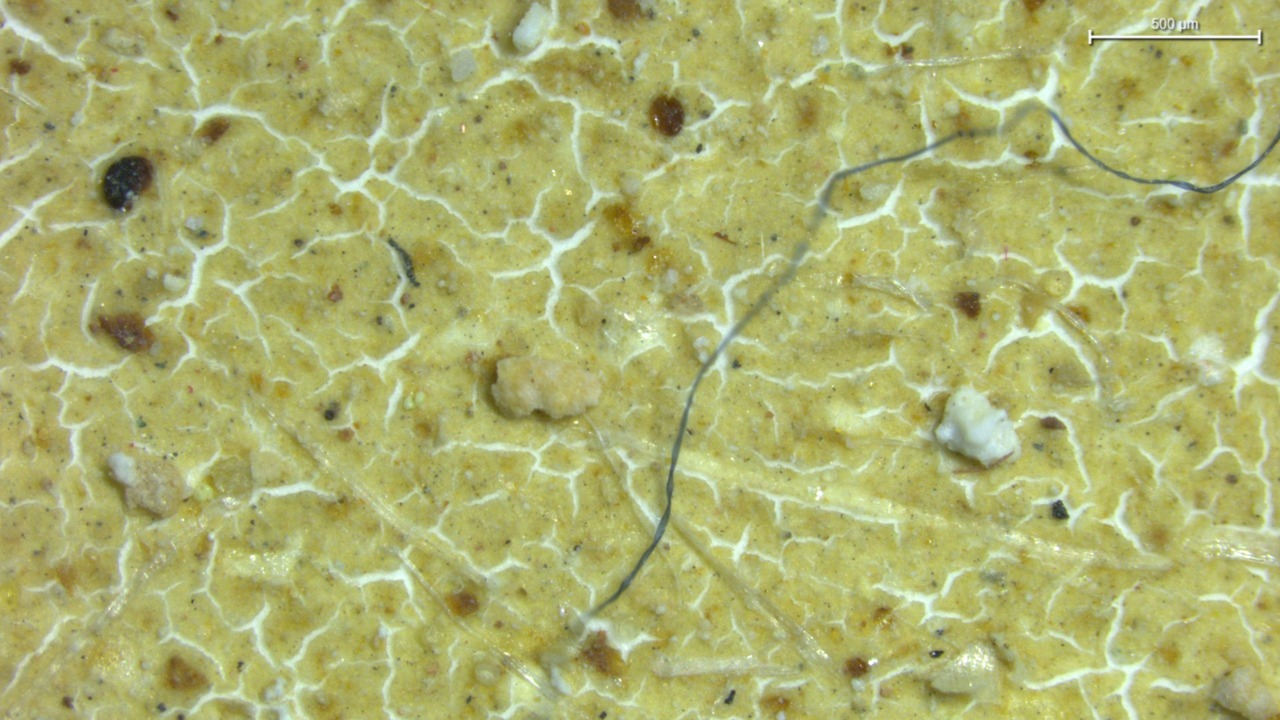microplastic_fragment: (491, 356, 601, 419), (935, 386, 1019, 468), (928, 643, 1000, 699), (1211, 666, 1280, 720), (513, 3, 542, 52), (107, 453, 136, 487), (448, 48, 477, 82)
